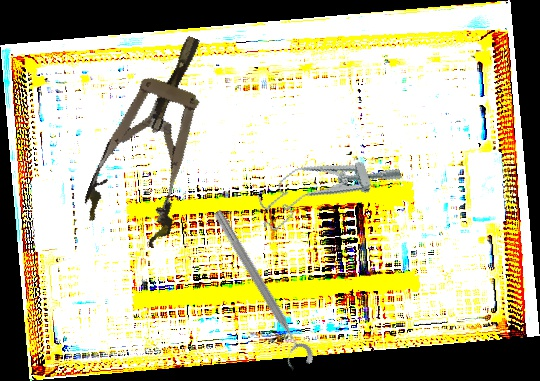Fixation Ring: (200, 206, 318, 375)
Speculum: (76, 22, 239, 252), (250, 138, 406, 234)
